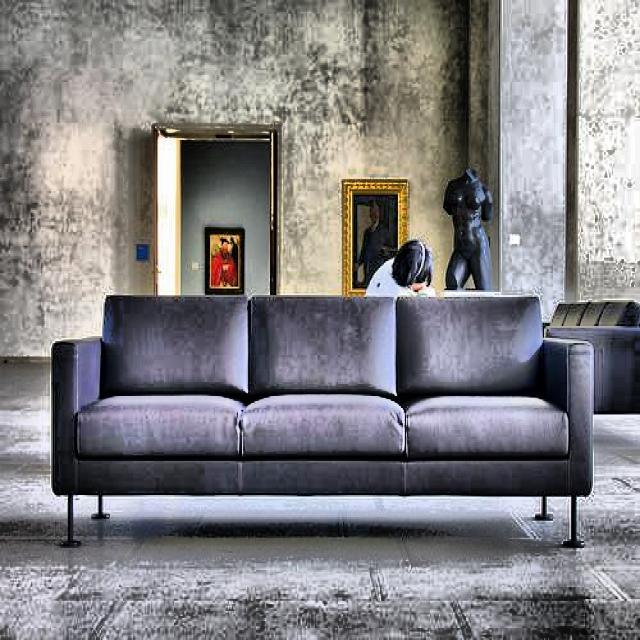sofa: (51, 294, 595, 548)
